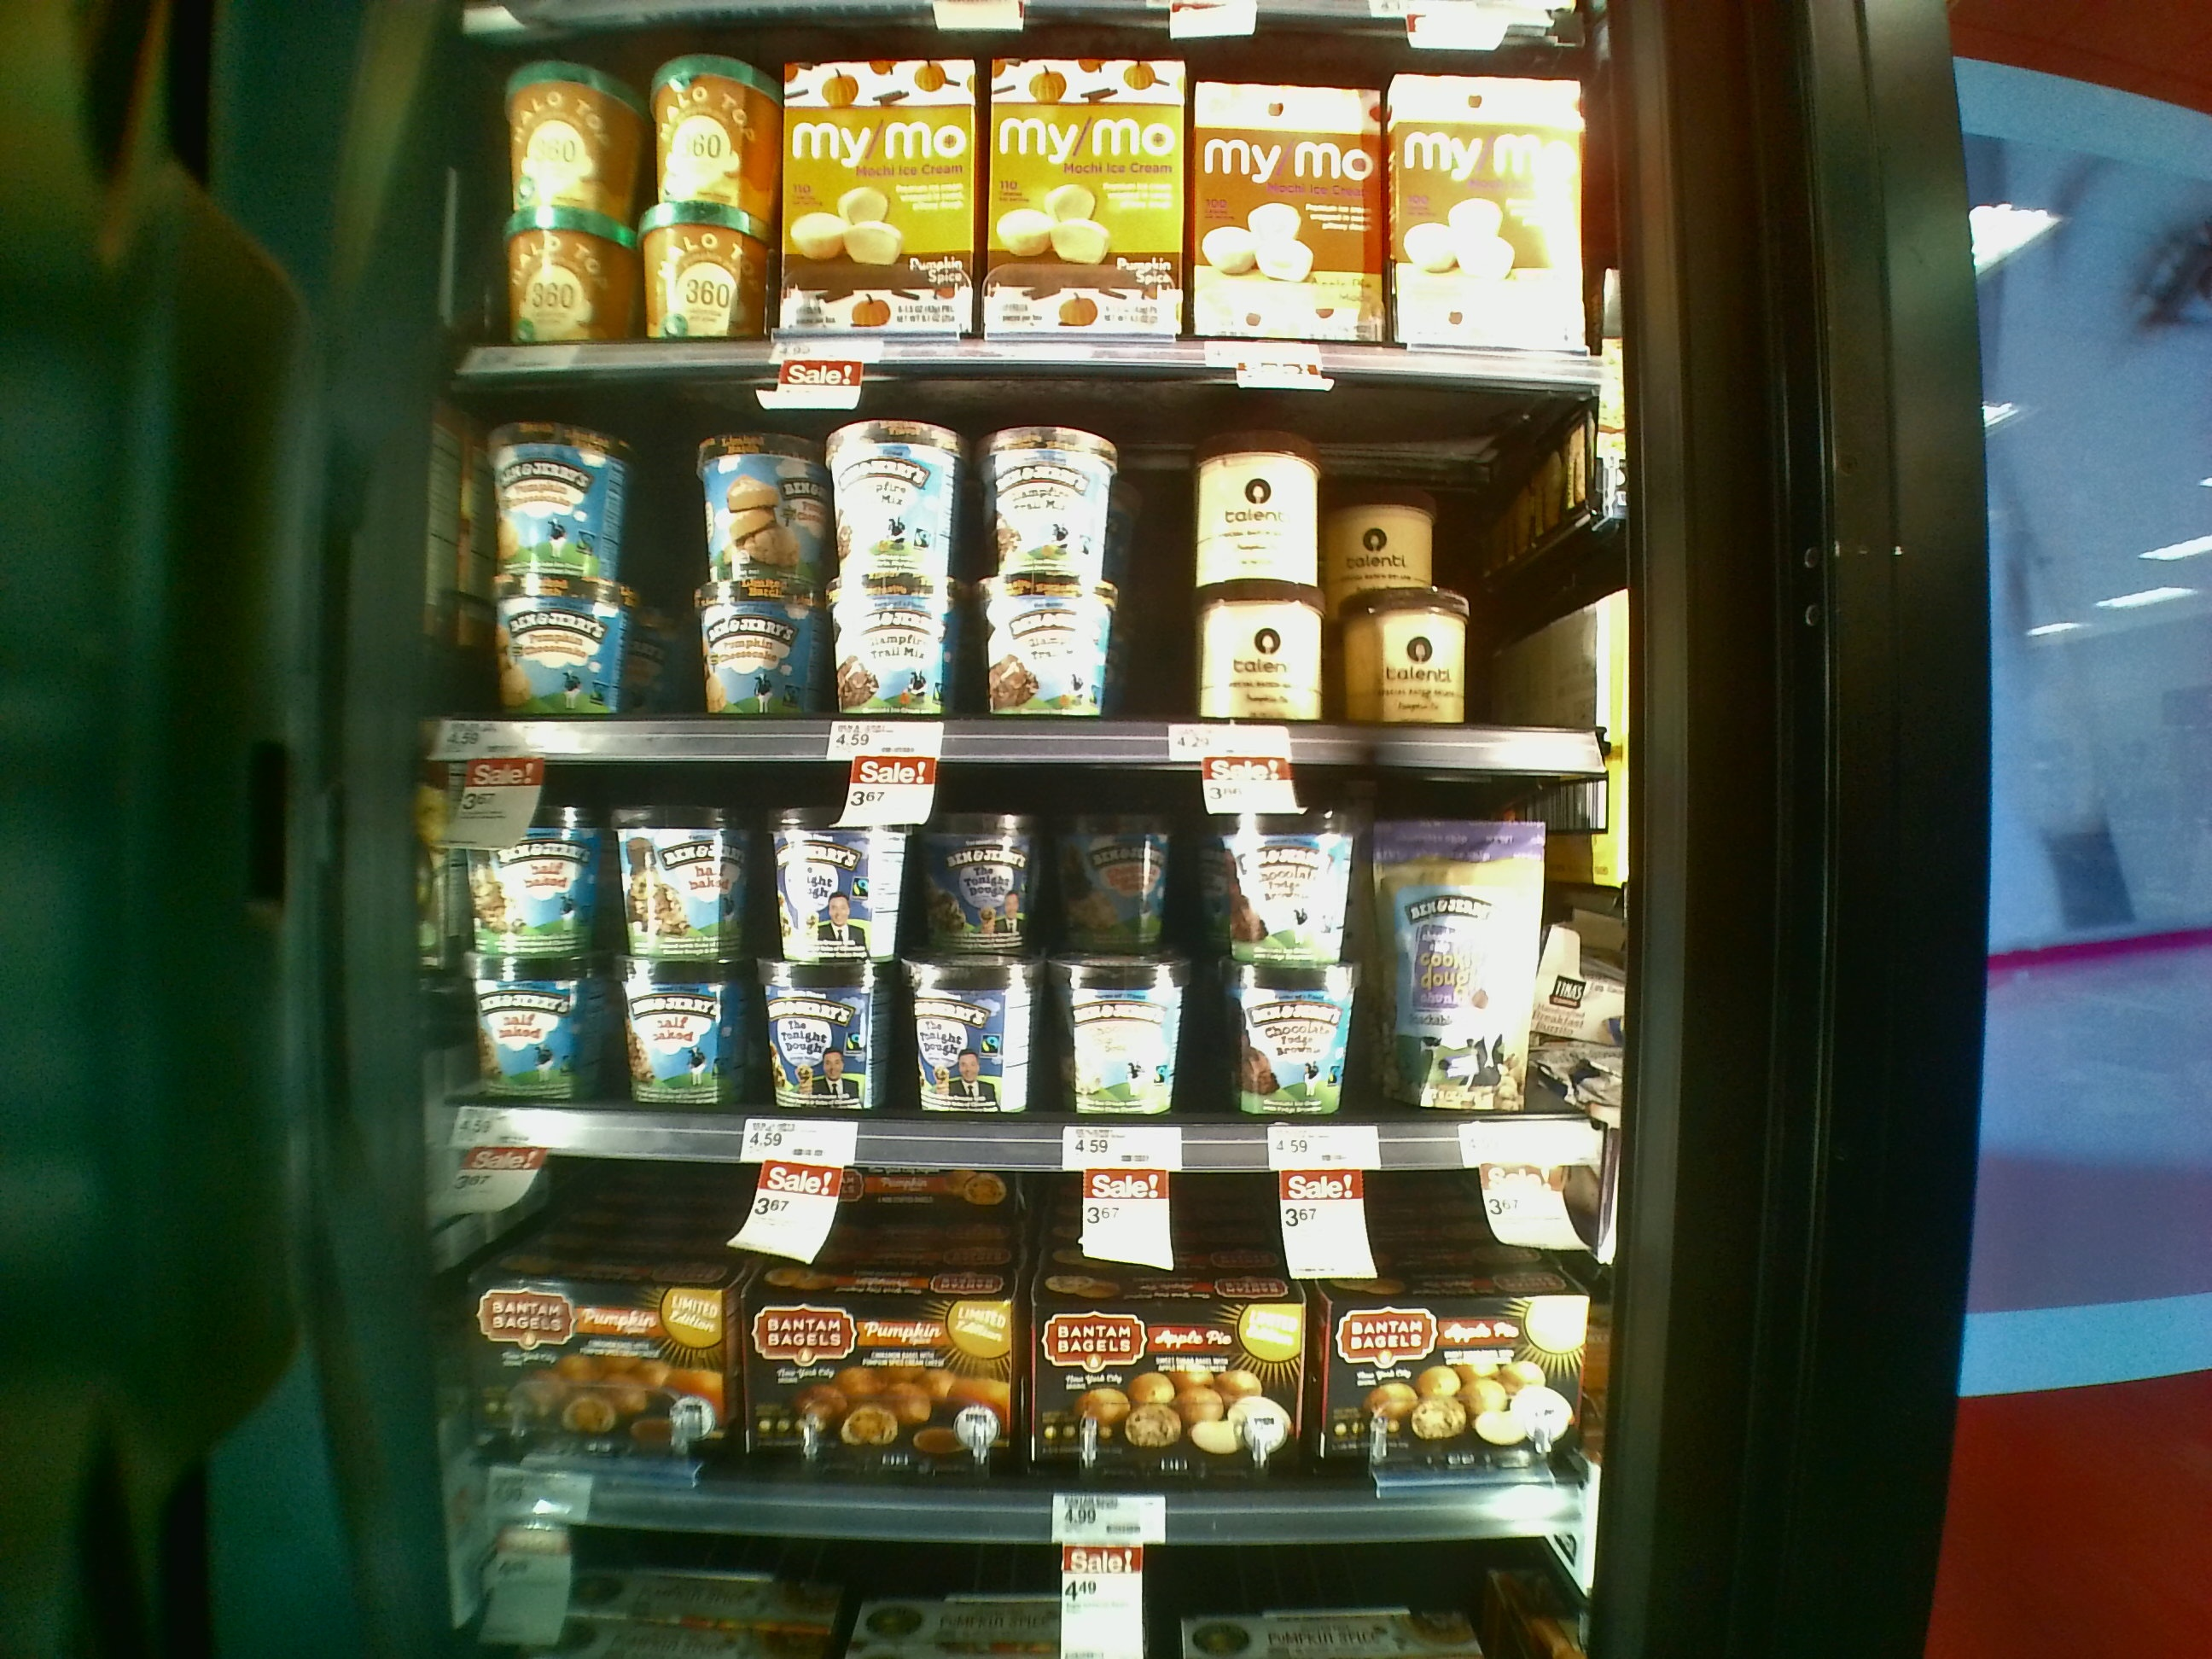shelf: (394, 732, 1630, 1176), (439, 359, 1635, 779), (420, 1127, 1608, 1532)
